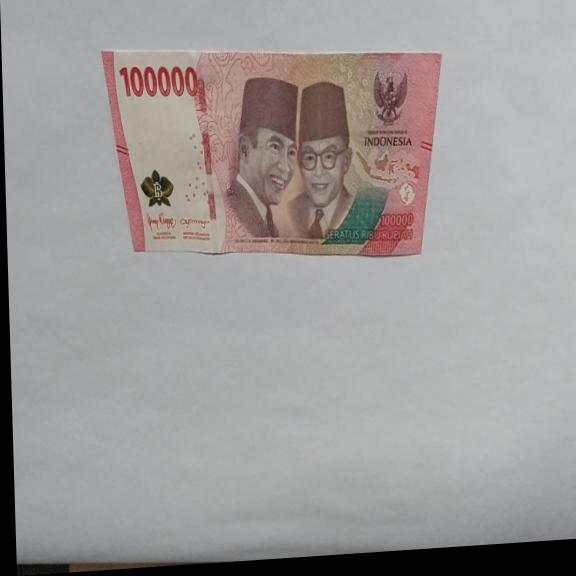Kertas: (101, 26, 448, 276), (118, 58, 199, 103)
